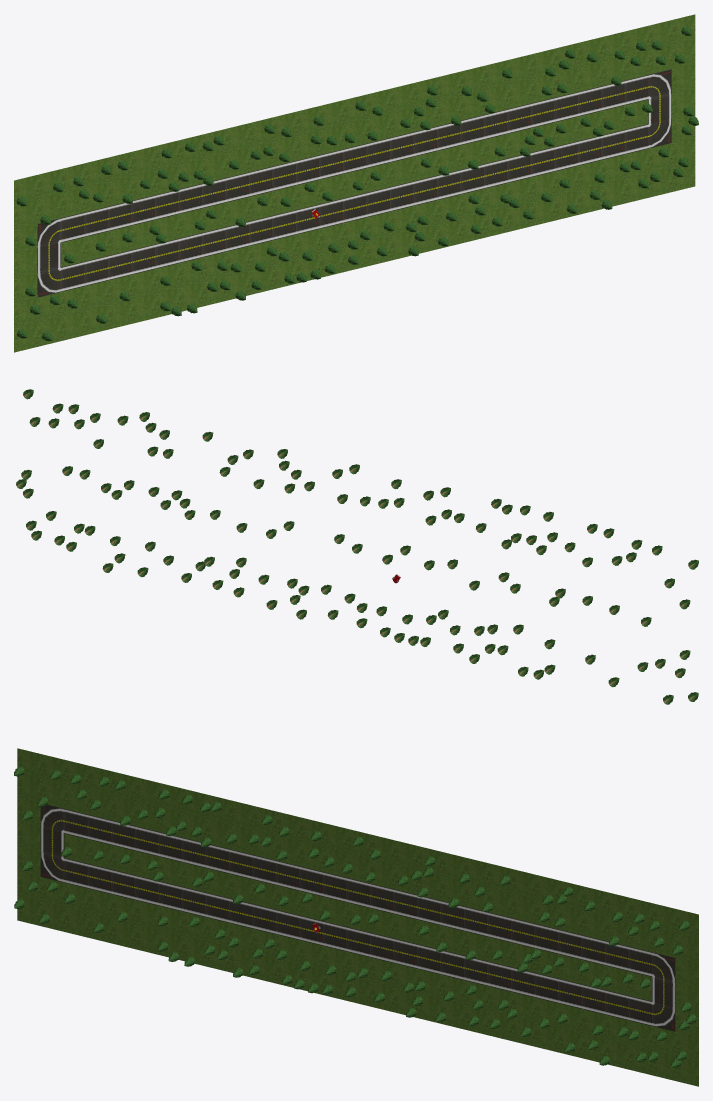
The model's file is main.glb.
The picture shows the model from 3 angles, top to bottom: view 1: azimuth 30°, elevation 25°; view 2: azimuth 150°, elevation 25°; view 3: azimuth 330°, elevation 25°; orthographic projection.
Parts seen in each view (by area): view 1: tile-24-4, tile-22-4, tile-28-4, tile-22-2, tile-26-2, tile-26-4, tile-24-2, tile-24-5, tile-12-4, tile-13-4, tile-23-2, tile-3-1 (+156 smaller); view 2: no part large enough to name; view 3: tile-3-1, tile-11-4, tile-1-2, tile-3-4, tile-5-4, tile-9-4, tile-11-2, tile-5-6, tile-7-2, tile-9-6, tile-3-2, tile-5-2 (+157 smaller).
Boxes of the visible parts, bbox=[...] form: tile-24-4: bbox=[577, 86, 601, 116]; tile-22-4: bbox=[530, 98, 554, 127]; tile-28-4: bbox=[671, 63, 695, 93]; tile-22-2: bbox=[530, 147, 554, 177]; tile-26-2: bbox=[624, 124, 648, 154]; tile-26-4: bbox=[624, 75, 648, 104]; tile-24-2: bbox=[577, 136, 601, 165]; tile-24-5: bbox=[577, 62, 601, 91]; tile-12-4: bbox=[296, 155, 319, 185]; tile-13-4: bbox=[319, 149, 342, 179]; tile-23-2: bbox=[554, 141, 577, 171]; tile-3-1: bbox=[84, 280, 107, 310]; tile-3-1: bbox=[87, 888, 111, 918]; tile-11-4: bbox=[275, 860, 299, 890]; tile-1-2: bbox=[40, 852, 64, 882]; tile-3-4: bbox=[87, 814, 111, 844]; tile-5-4: bbox=[134, 826, 158, 856]; tile-9-4: bbox=[228, 849, 252, 879]; tile-11-2: bbox=[275, 910, 299, 939]; tile-5-6: bbox=[134, 777, 158, 806]; tile-7-2: bbox=[181, 887, 205, 916]; tile-9-6: bbox=[228, 800, 252, 829]; tile-3-2: bbox=[87, 864, 111, 893]; tile-5-2: bbox=[134, 875, 158, 905].
Size of the model in its own units: 16.96 by 4.12 by 0.3574.
Materials: 12 (5 with a texture image).
